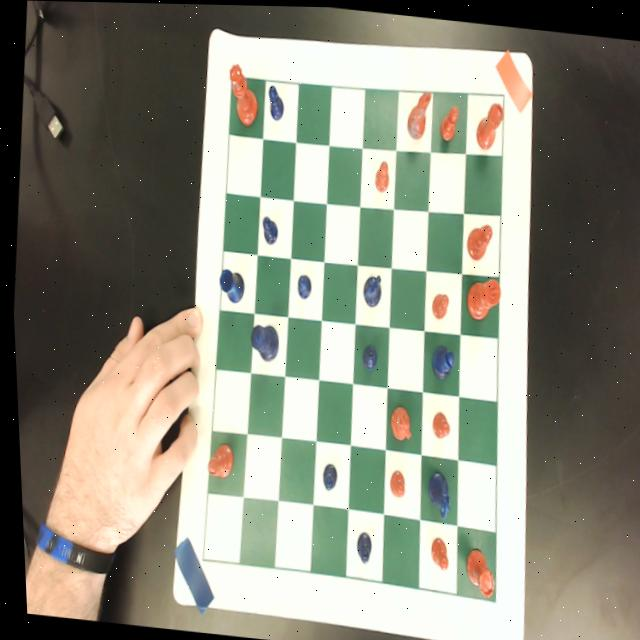B: (425, 342, 453, 379)
K: (245, 322, 278, 363)
N: (420, 465, 450, 518), (357, 269, 382, 307)
P: (265, 82, 285, 119), (349, 529, 368, 564), (257, 213, 277, 244), (357, 341, 376, 369), (317, 460, 334, 490), (292, 271, 310, 299)
R: (214, 266, 243, 304)
b: (201, 440, 231, 480), (463, 220, 491, 259)
k: (461, 273, 500, 321)
n: (403, 87, 432, 140), (384, 402, 410, 443)
p: (436, 101, 460, 141), (423, 533, 446, 569), (371, 157, 390, 191), (426, 407, 447, 437), (426, 288, 447, 317), (384, 467, 403, 496)
q: (224, 62, 261, 126)
r: (472, 98, 505, 151), (458, 545, 492, 595)
